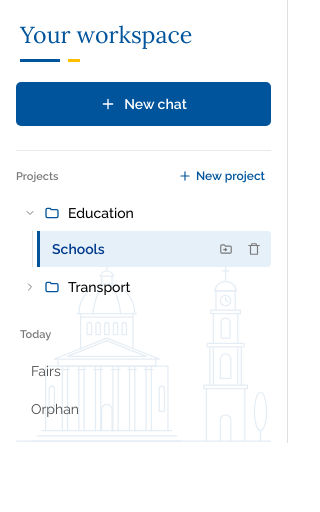
Scenario: Sidebar projects › toggles a project and shows a hint when it is empty
Click the button "Transport".
click(144, 287)  # box [16,269,271,305]
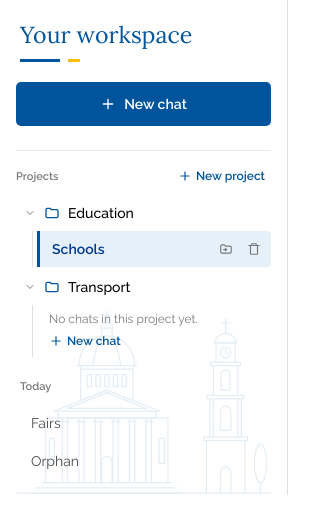
Expected: the button "Transport" is expanded
Expected: the text "No chats in this project yet." is shown, [49,311,198,327]
Click the button "Transport".
click(144, 287)  # box [16,269,271,305]
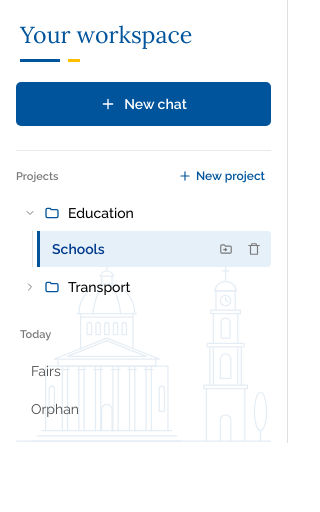
Expected: the list "No chats in this project yet. New chat" is gone
